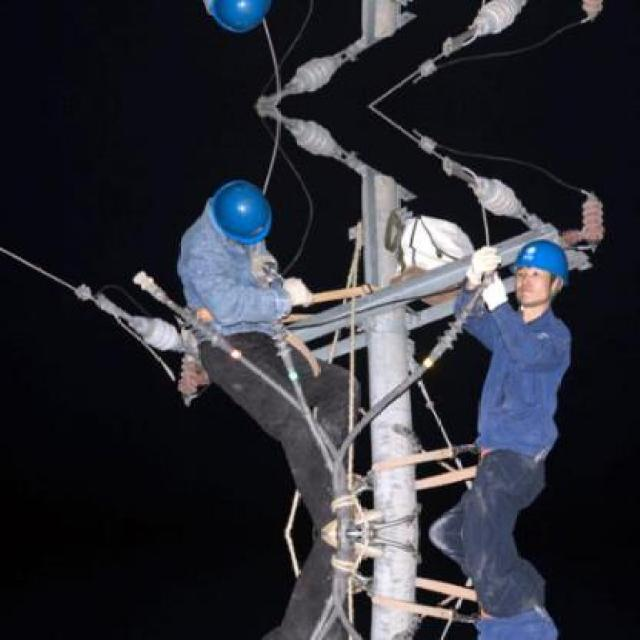helmet: (202, 177, 276, 253), (505, 234, 569, 310), (201, 0, 276, 35)
